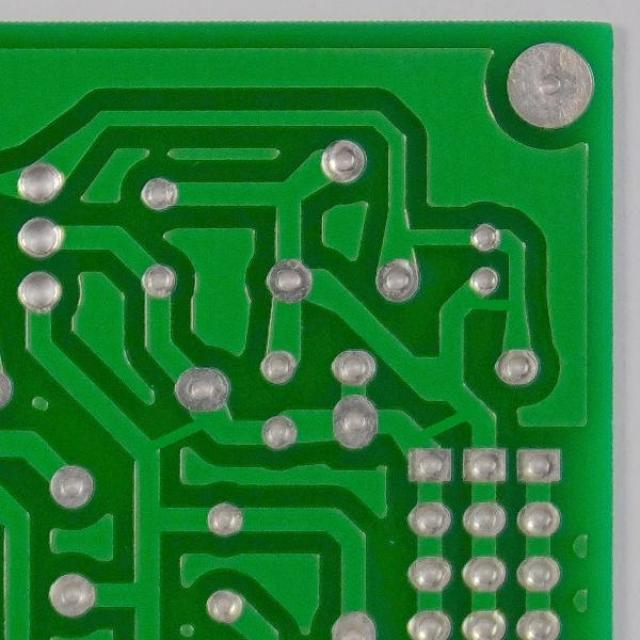Short_Circuit: (134, 408, 217, 465), (412, 399, 483, 444), (456, 289, 534, 326)
